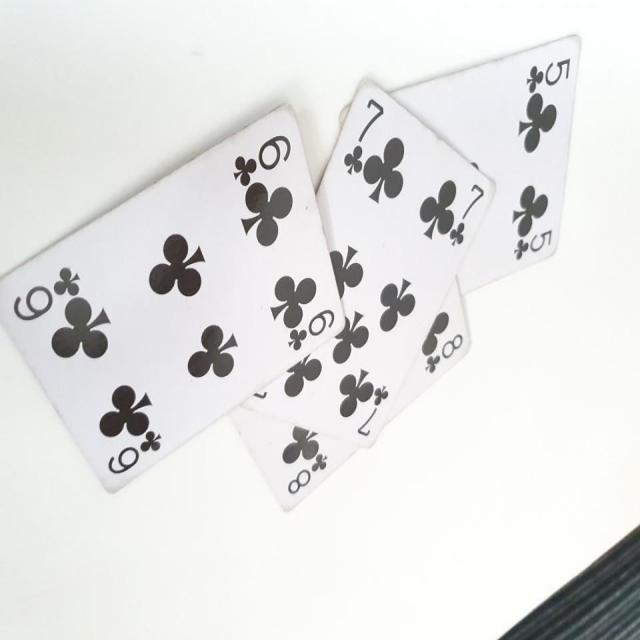5 Trefoils: (388, 33, 584, 286)
6 Trefoils: (1, 102, 345, 495)
7 Trefoils: (236, 77, 497, 450)
8 Trefoils: (219, 276, 471, 514)
